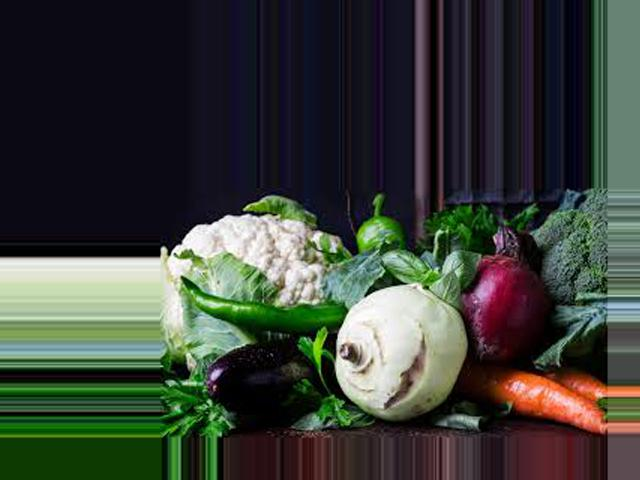carrot: (486, 352, 609, 438)
